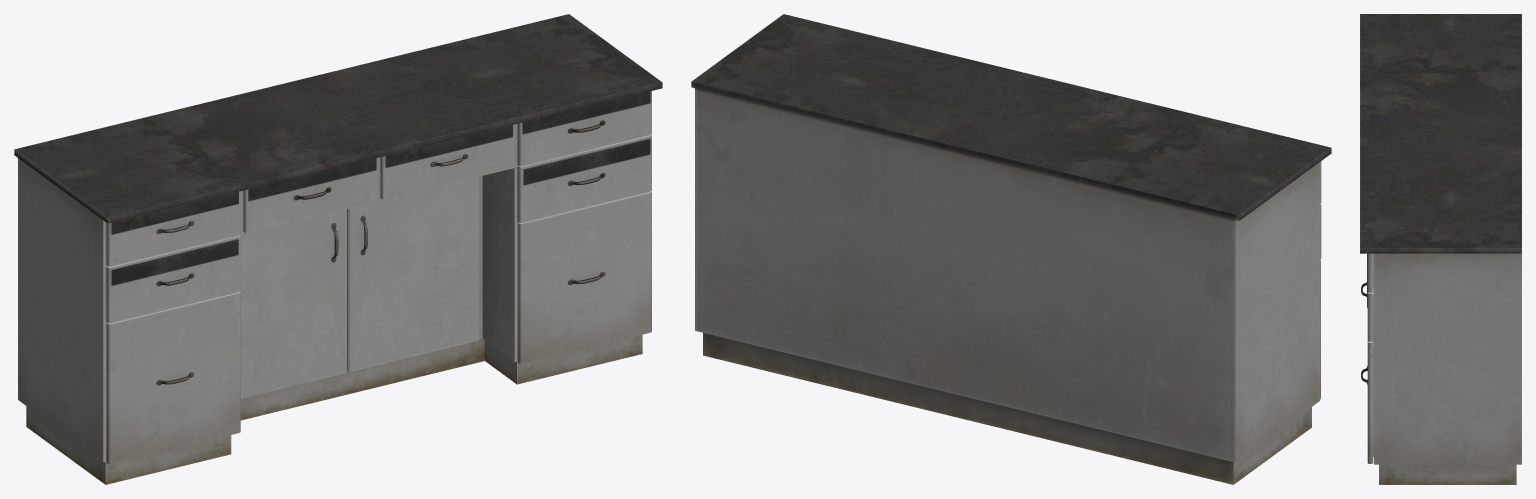
File: zhuozi.fbx
3 renders of one model, left to right at view 1: azimuth 30°, elevation 25°; view 2: azimuth 150°, elevation 25°; view 3: azimuth 270°, elevation 25°, orthographic. The views are drawn at different scales.
Parts seen in each view (by area): view 1: sm30_267_labodesk01a_00ms.002, LODGroup_1_MainMesh_10_SubMesh_1.003, LODGroup_1_MainMesh_9_SubMesh_1.002, LODGroup_1_MainMesh_8_SubMesh_1.005, LODGroup_1_MainMesh_11_SubMesh_1.003, LODGroup_1_MainMesh_6_SubMesh_1.008, LODGroup_1_MainMesh_7_SubMesh_1.008, LODGroup_1_MainMesh_3_SubMesh_1.020, LODGroup_1_MainMesh_4_SubMesh_1.018, LODGroup_1_MainMesh_5_SubMesh_1.014, LODGroup_1_MainMesh_2_SubMesh_1.028; view 2: sm30_267_labodesk01a_00ms.002; view 3: sm30_267_labodesk01a_00ms.002, LODGroup_1_MainMesh_8_SubMesh_1.005, LODGroup_1_MainMesh_7_SubMesh_1.008, LODGroup_1_MainMesh_2_SubMesh_1.028.
Part boxes in pixels (x1=…): sm30_267_labodesk01a_00ms.002: x1=14, y1=14, x2=662, y2=484; LODGroup_1_MainMesh_10_SubMesh_1.003: x1=347, y1=177, x2=479, y2=371; LODGroup_1_MainMesh_9_SubMesh_1.002: x1=106, y1=292, x2=240, y2=464; LODGroup_1_MainMesh_8_SubMesh_1.005: x1=517, y1=191, x2=651, y2=364; LODGroup_1_MainMesh_11_SubMesh_1.003: x1=240, y1=209, x2=346, y2=398; LODGroup_1_MainMesh_6_SubMesh_1.008: x1=105, y1=235, x2=240, y2=323; LODGroup_1_MainMesh_7_SubMesh_1.008: x1=516, y1=134, x2=651, y2=222; LODGroup_1_MainMesh_3_SubMesh_1.020: x1=379, y1=124, x2=515, y2=199; LODGroup_1_MainMesh_4_SubMesh_1.018: x1=242, y1=158, x2=378, y2=233; LODGroup_1_MainMesh_5_SubMesh_1.014: x1=105, y1=191, x2=240, y2=266; LODGroup_1_MainMesh_2_SubMesh_1.028: x1=516, y1=91, x2=651, y2=166; sm30_267_labodesk01a_00ms.002: x1=691, y1=14, x2=1331, y2=484; sm30_267_labodesk01a_00ms.002: x1=1360, y1=14, x2=1521, y2=484; LODGroup_1_MainMesh_8_SubMesh_1.005: x1=1361, y1=336, x2=1373, y2=463; LODGroup_1_MainMesh_7_SubMesh_1.008: x1=1361, y1=263, x2=1373, y2=341; LODGroup_1_MainMesh_2_SubMesh_1.028: x1=1367, y1=253, x2=1373, y2=292.
Size of the model in its own units: 207 by 99.17 by 60.56.
